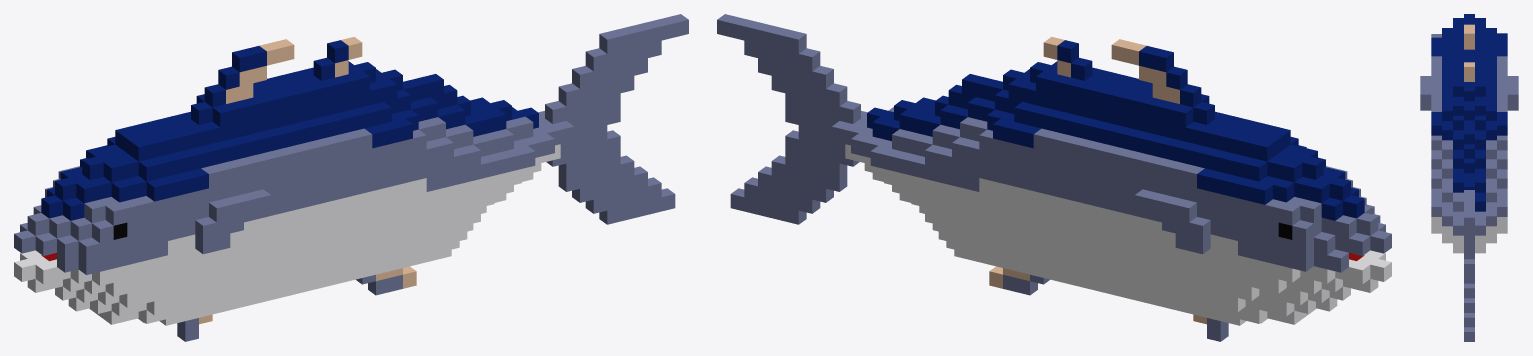
File: Atun.fbx
3 renders of one model, left to right at view 1: azimuth 30°, elevation 25°; view 2: azimuth 150°, elevation 25°; view 3: azimuth 270°, elevation 25°, orthographic. The views are drawn at different scales.
Parts seen in each view (by area): view 1: atun_49x19x9; view 2: atun_49x19x9; view 3: atun_49x19x9.
Part boxes in pixels (left/top/right/bottom): atun_49x19x9: left=14, top=14, right=688, bottom=341; atun_49x19x9: left=717, top=14, right=1391, bottom=341; atun_49x19x9: left=1420, top=14, right=1518, bottom=341.
Bounding box in the file's own units: 1021 × 396 × 188.
